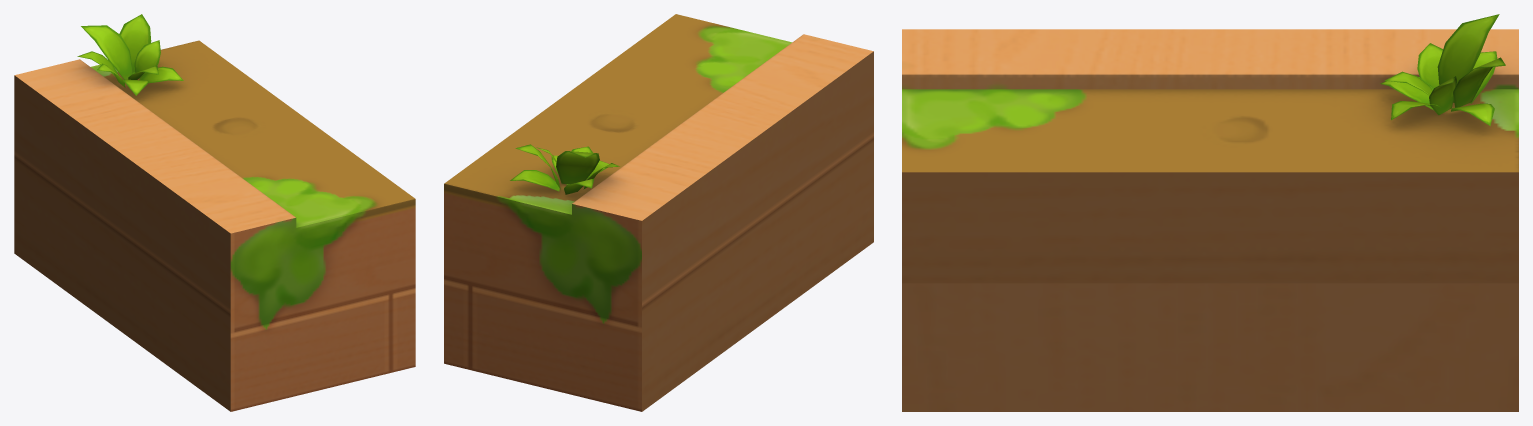
Rendered from nidi01.FBX.
3 renders of one model, left to right at view 1: azimuth 30°, elevation 25°; view 2: azimuth 150°, elevation 25°; view 3: azimuth 270°, elevation 25°, orthographic. The views are drawn at different scales.
Visible parts, largest first — view 1: objjiansulumian_01_01; view 2: objjiansulumian_01_01; view 3: objjiansulumian_01_01.
Boxes of the visible parts, left/top/right/bottom form: objjiansulumian_01_01: left=14, top=14, right=415, bottom=411; objjiansulumian_01_01: left=444, top=14, right=873, bottom=411; objjiansulumian_01_01: left=902, top=14, right=1518, bottom=411.
Size of the model in its own units: 3.45 by 3.89 by 7.
